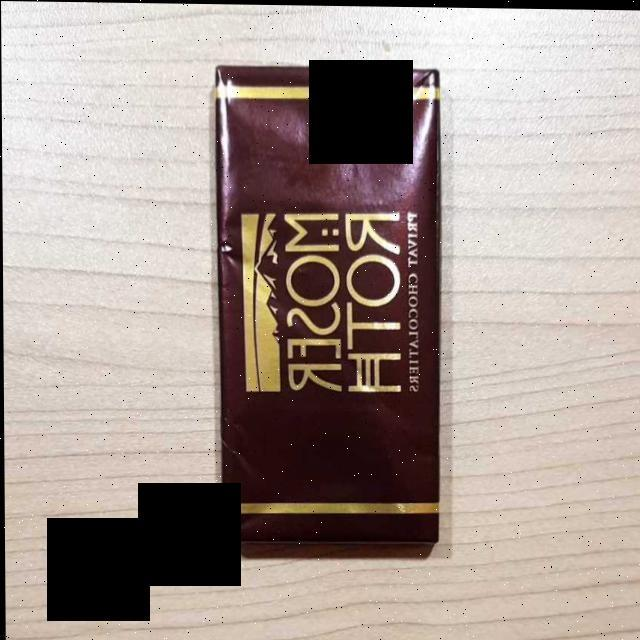chocolate: (209, 65, 441, 567), (212, 75, 442, 544)
